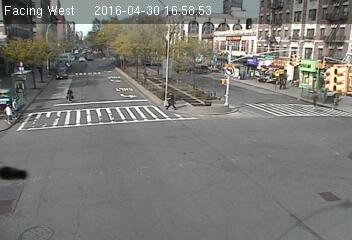neg: (271, 143, 294, 173), (42, 158, 62, 183), (146, 159, 165, 183), (156, 12, 174, 37), (308, 182, 325, 205), (8, 165, 24, 186), (114, 103, 128, 122), (141, 98, 155, 117), (297, 92, 311, 110), (189, 90, 202, 108), (228, 16, 240, 32), (82, 88, 93, 103), (266, 22, 276, 36), (32, 102, 42, 115), (78, 109, 87, 120)
pos: (2, 102, 20, 125), (164, 88, 181, 110), (9, 98, 24, 117), (331, 93, 345, 112), (310, 90, 324, 108), (65, 85, 78, 102), (281, 76, 292, 91)
